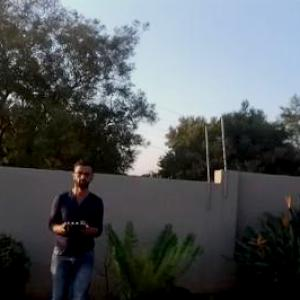follow: (44, 140, 111, 299)
